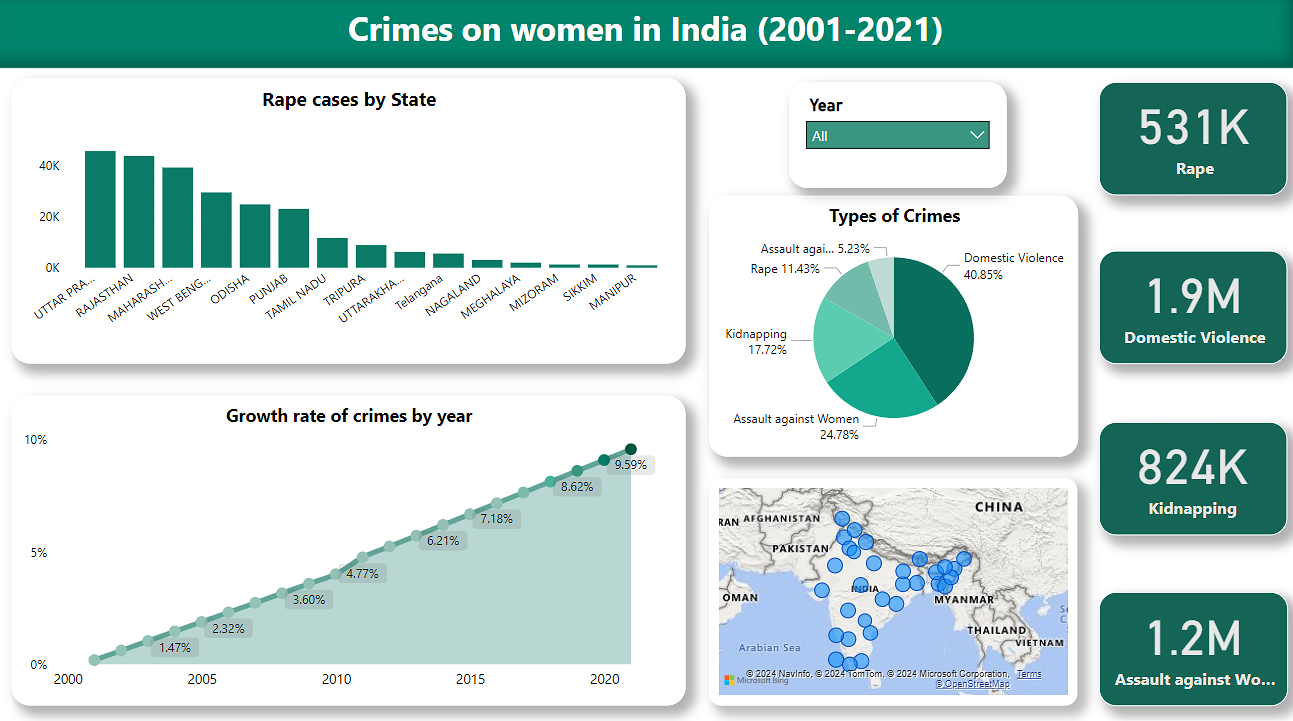

This screenshot's page, from the dashboard's own definition file:
{"tool":"powerbi","page":{"name":"Page 1","canvas":[1280,720],"ordinal":0},"visuals":[{"type":"clusteredColumnChart","title":"Rape cases by State","fields":{"Category":["women crime in ind.State"],"Y":["Sum(women crime in ind.Rape)"]},"box":[17.2,79.8,661.4,279.8],"z":0},{"type":"textbox","box":[0,0,1280,70],"z":1000},{"type":"card","fields":{"Values":["Sum(women crime in ind.Rape)"]},"box":[1084.6,83.2,184.6,111],"z":2000},{"type":"card","fields":{"Values":["Sum(women crime in ind.Domestic Violence)"]},"box":[1084.6,248.5,184.6,111],"z":3000},{"type":"card","fields":{"Values":["Sum(women crime in ind.Kidnapping and Abduction )"]},"box":[1084.6,417.4,184.6,111],"z":4000},{"type":"card","fields":{"Values":["Sum(women crime in ind.Assault against Women)"]},"box":[1084.7,584.1,185.3,111.7],"z":5000},{"type":"slicer","fields":{"Values":["women crime in ind.Year"]},"box":[780,83.8,213.8,103.8],"z":6000},{"type":"pieChart","title":"Types of Crimes","fields":{"Y":["Sum(women crime in ind.Domestic Violence)","Sum(women crime in ind.Assault against Women)","Sum(women crime in ind.Kidnapping and Abduction )","Sum(women crime in ind.Rape)","Sum(women crime in ind.Assault against Modesty of Women)"]},"box":[701.2,195,362.5,256.2],"z":7000},{"type":"stackedAreaChart","title":"Growth rate of crimes by year","fields":{"Category":["women crime in ind.Year"],"Y":["Sum(women crime in ind.Crimes)"]},"box":[17.2,391.4,661.4,304.3],"z":8000},{"type":"map","fields":{"Category":["women crime in ind.State"],"Size":["Sum(women crime in ind.Crimes)"]},"box":[701.8,472.4,362,223.3],"z":9000}]}

Visuals, with their boxes in screenshot pixels (x1, y1, x2, y2), scaled from the page's 1280x720 canvas onto the 1293x721 screenshot:
"Rape cases by State" clusteredColumnChart: left=17, top=80, right=685, bottom=360
textbox: left=0, top=0, right=1292, bottom=70
card - Sum(women crime in ind.Rape): left=1096, top=83, right=1282, bottom=194
card - Sum(women crime in ind.Domestic Violence): left=1096, top=249, right=1282, bottom=360
card - Sum(women crime in ind.Kidnapping and Abduction ): left=1096, top=418, right=1282, bottom=529
card - Sum(women crime in ind.Assault against Women): left=1096, top=585, right=1283, bottom=697
slicer - women crime in ind.Year: left=788, top=84, right=1004, bottom=188
"Types of Crimes" pieChart: left=708, top=195, right=1075, bottom=452
"Growth rate of crimes by year" stackedAreaChart: left=17, top=392, right=685, bottom=697
map - women crime in ind.State x Sum(women crime in ind.Crimes): left=709, top=473, right=1075, bottom=697
